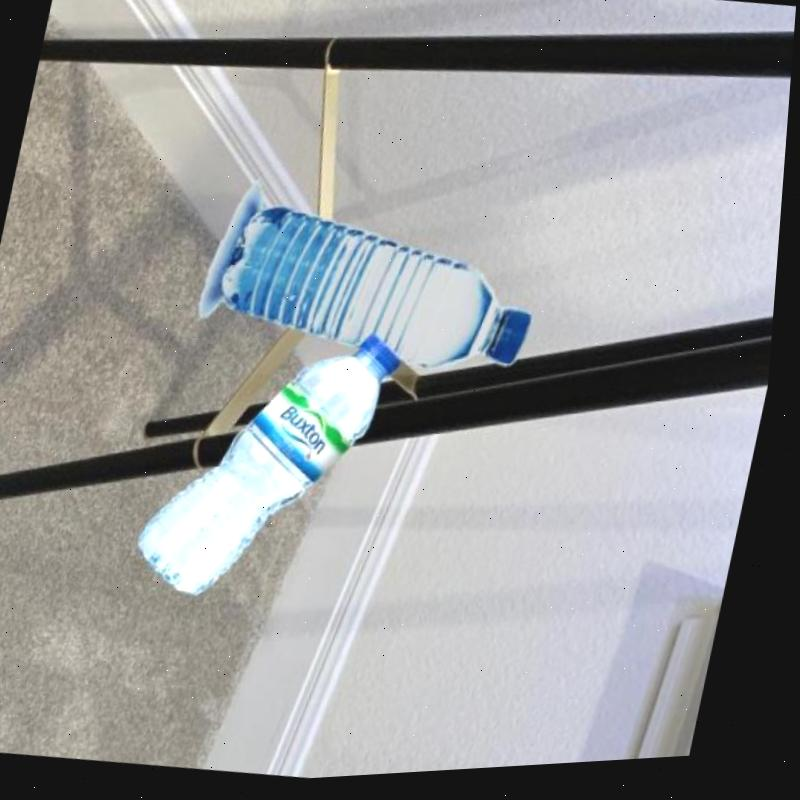botella: (132, 310, 418, 626), (199, 189, 557, 397)
